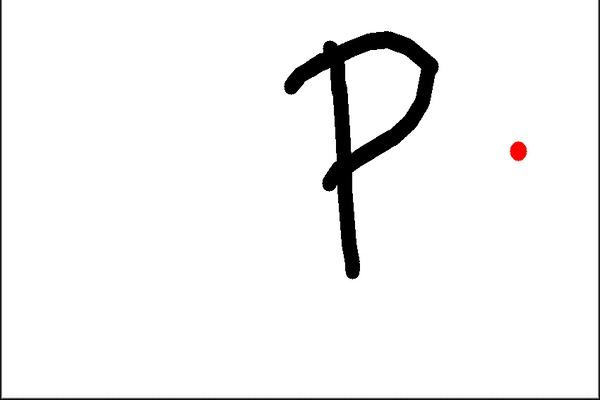P: (284, 24, 460, 292)
